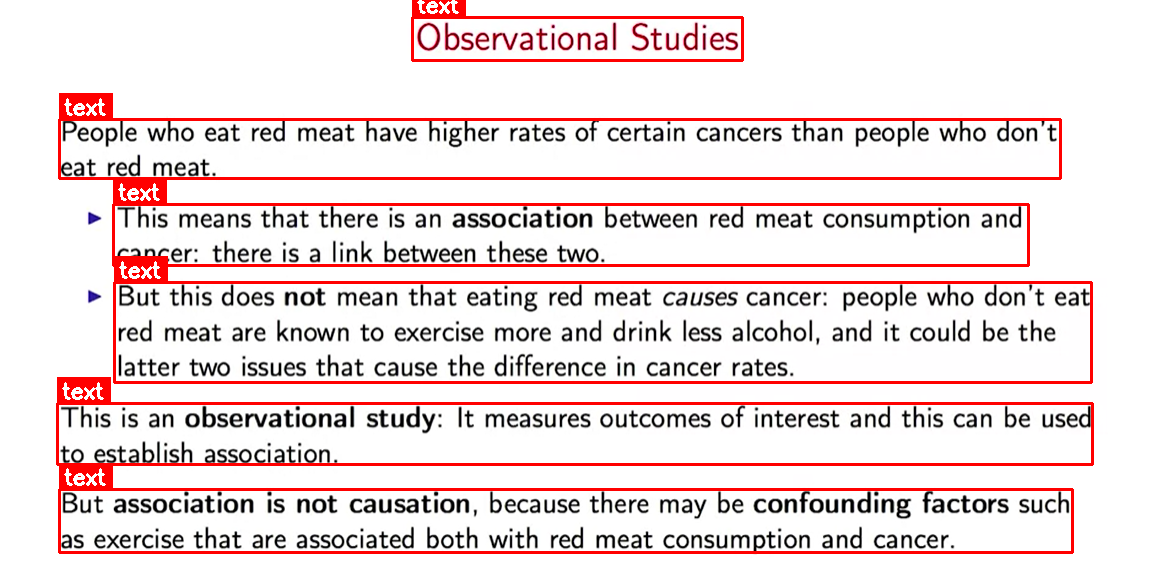text: (114, 282, 1091, 382), (59, 489, 1072, 552), (57, 403, 1092, 464), (59, 119, 1060, 178), (113, 204, 1028, 265), (412, 17, 742, 60)
